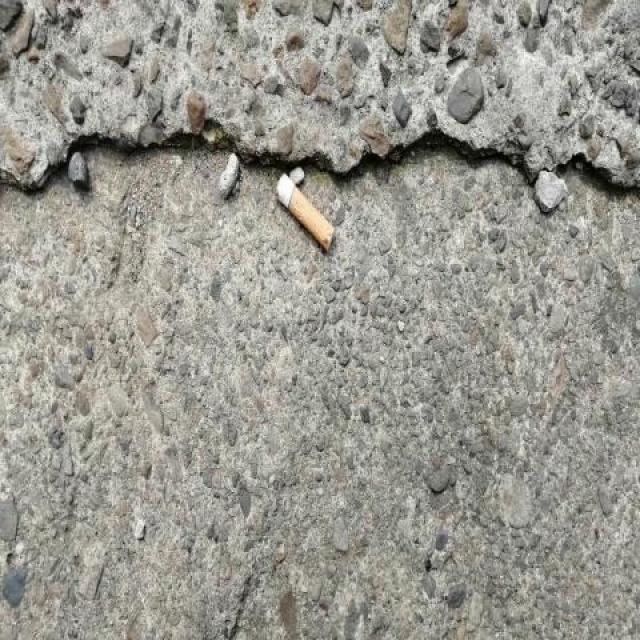non-organic waste: (268, 166, 340, 255)
